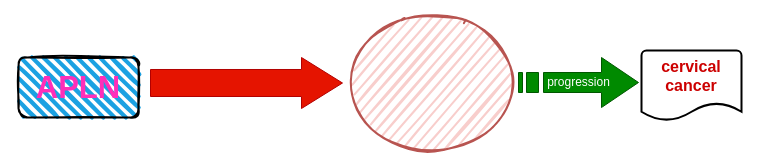
Image size: 759x166. Some labels were removed from this diagram. Each missing label, with the box of its shape:
PI3K/AKT/mTOR pathway: (150, 56, 342, 108)
proliferation migration glycolysis: (345, 16, 517, 148)
